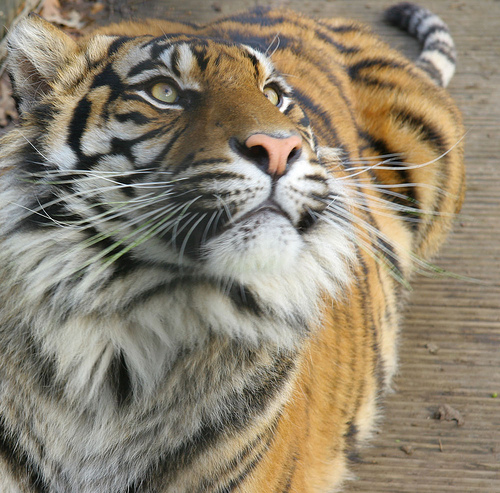Tigre: (16, 7, 482, 488)
